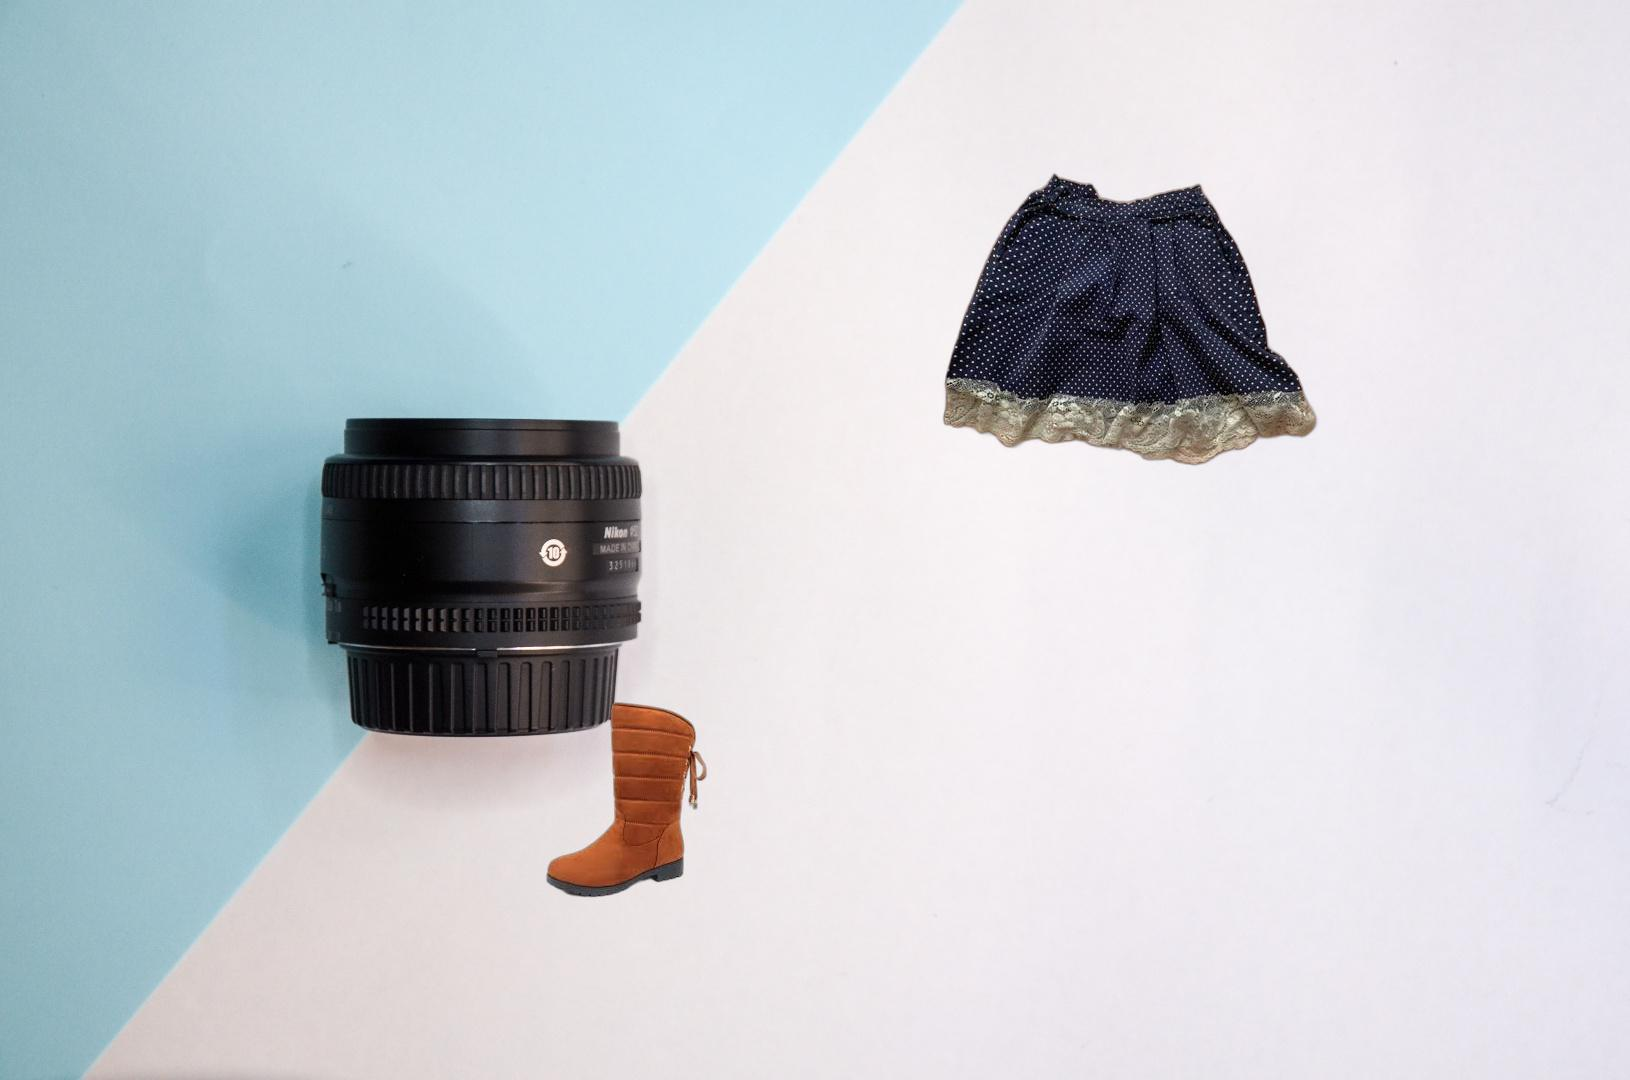clothes: (940, 169, 1322, 469)
shoes: (545, 700, 710, 900)
